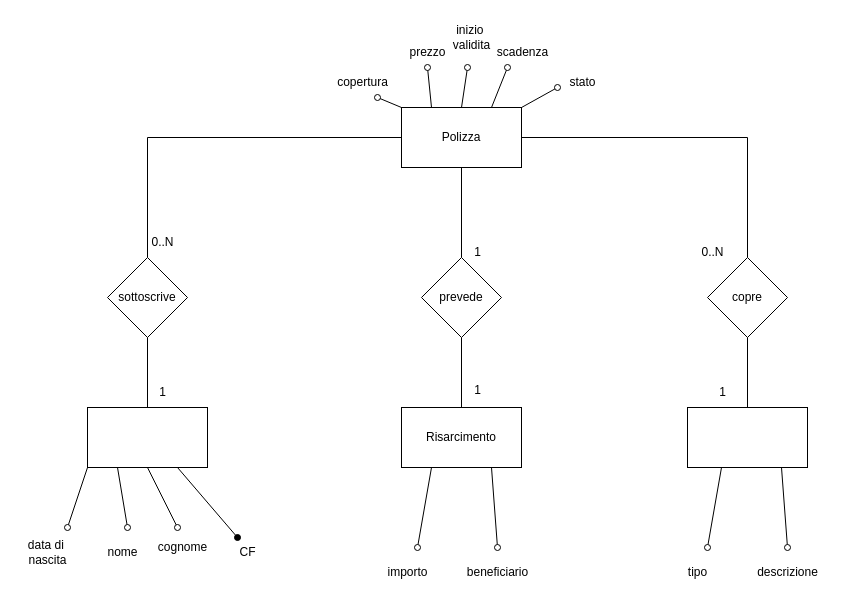
The diagram is 844 pixels wide and 604 high, and some of its shapes have lost their labels. The centre of each missing label's shape, as x and y in pixels:
"Bene" belongs at (x=747, y=437).
"Cliente" belongs at (x=147, y=437).
